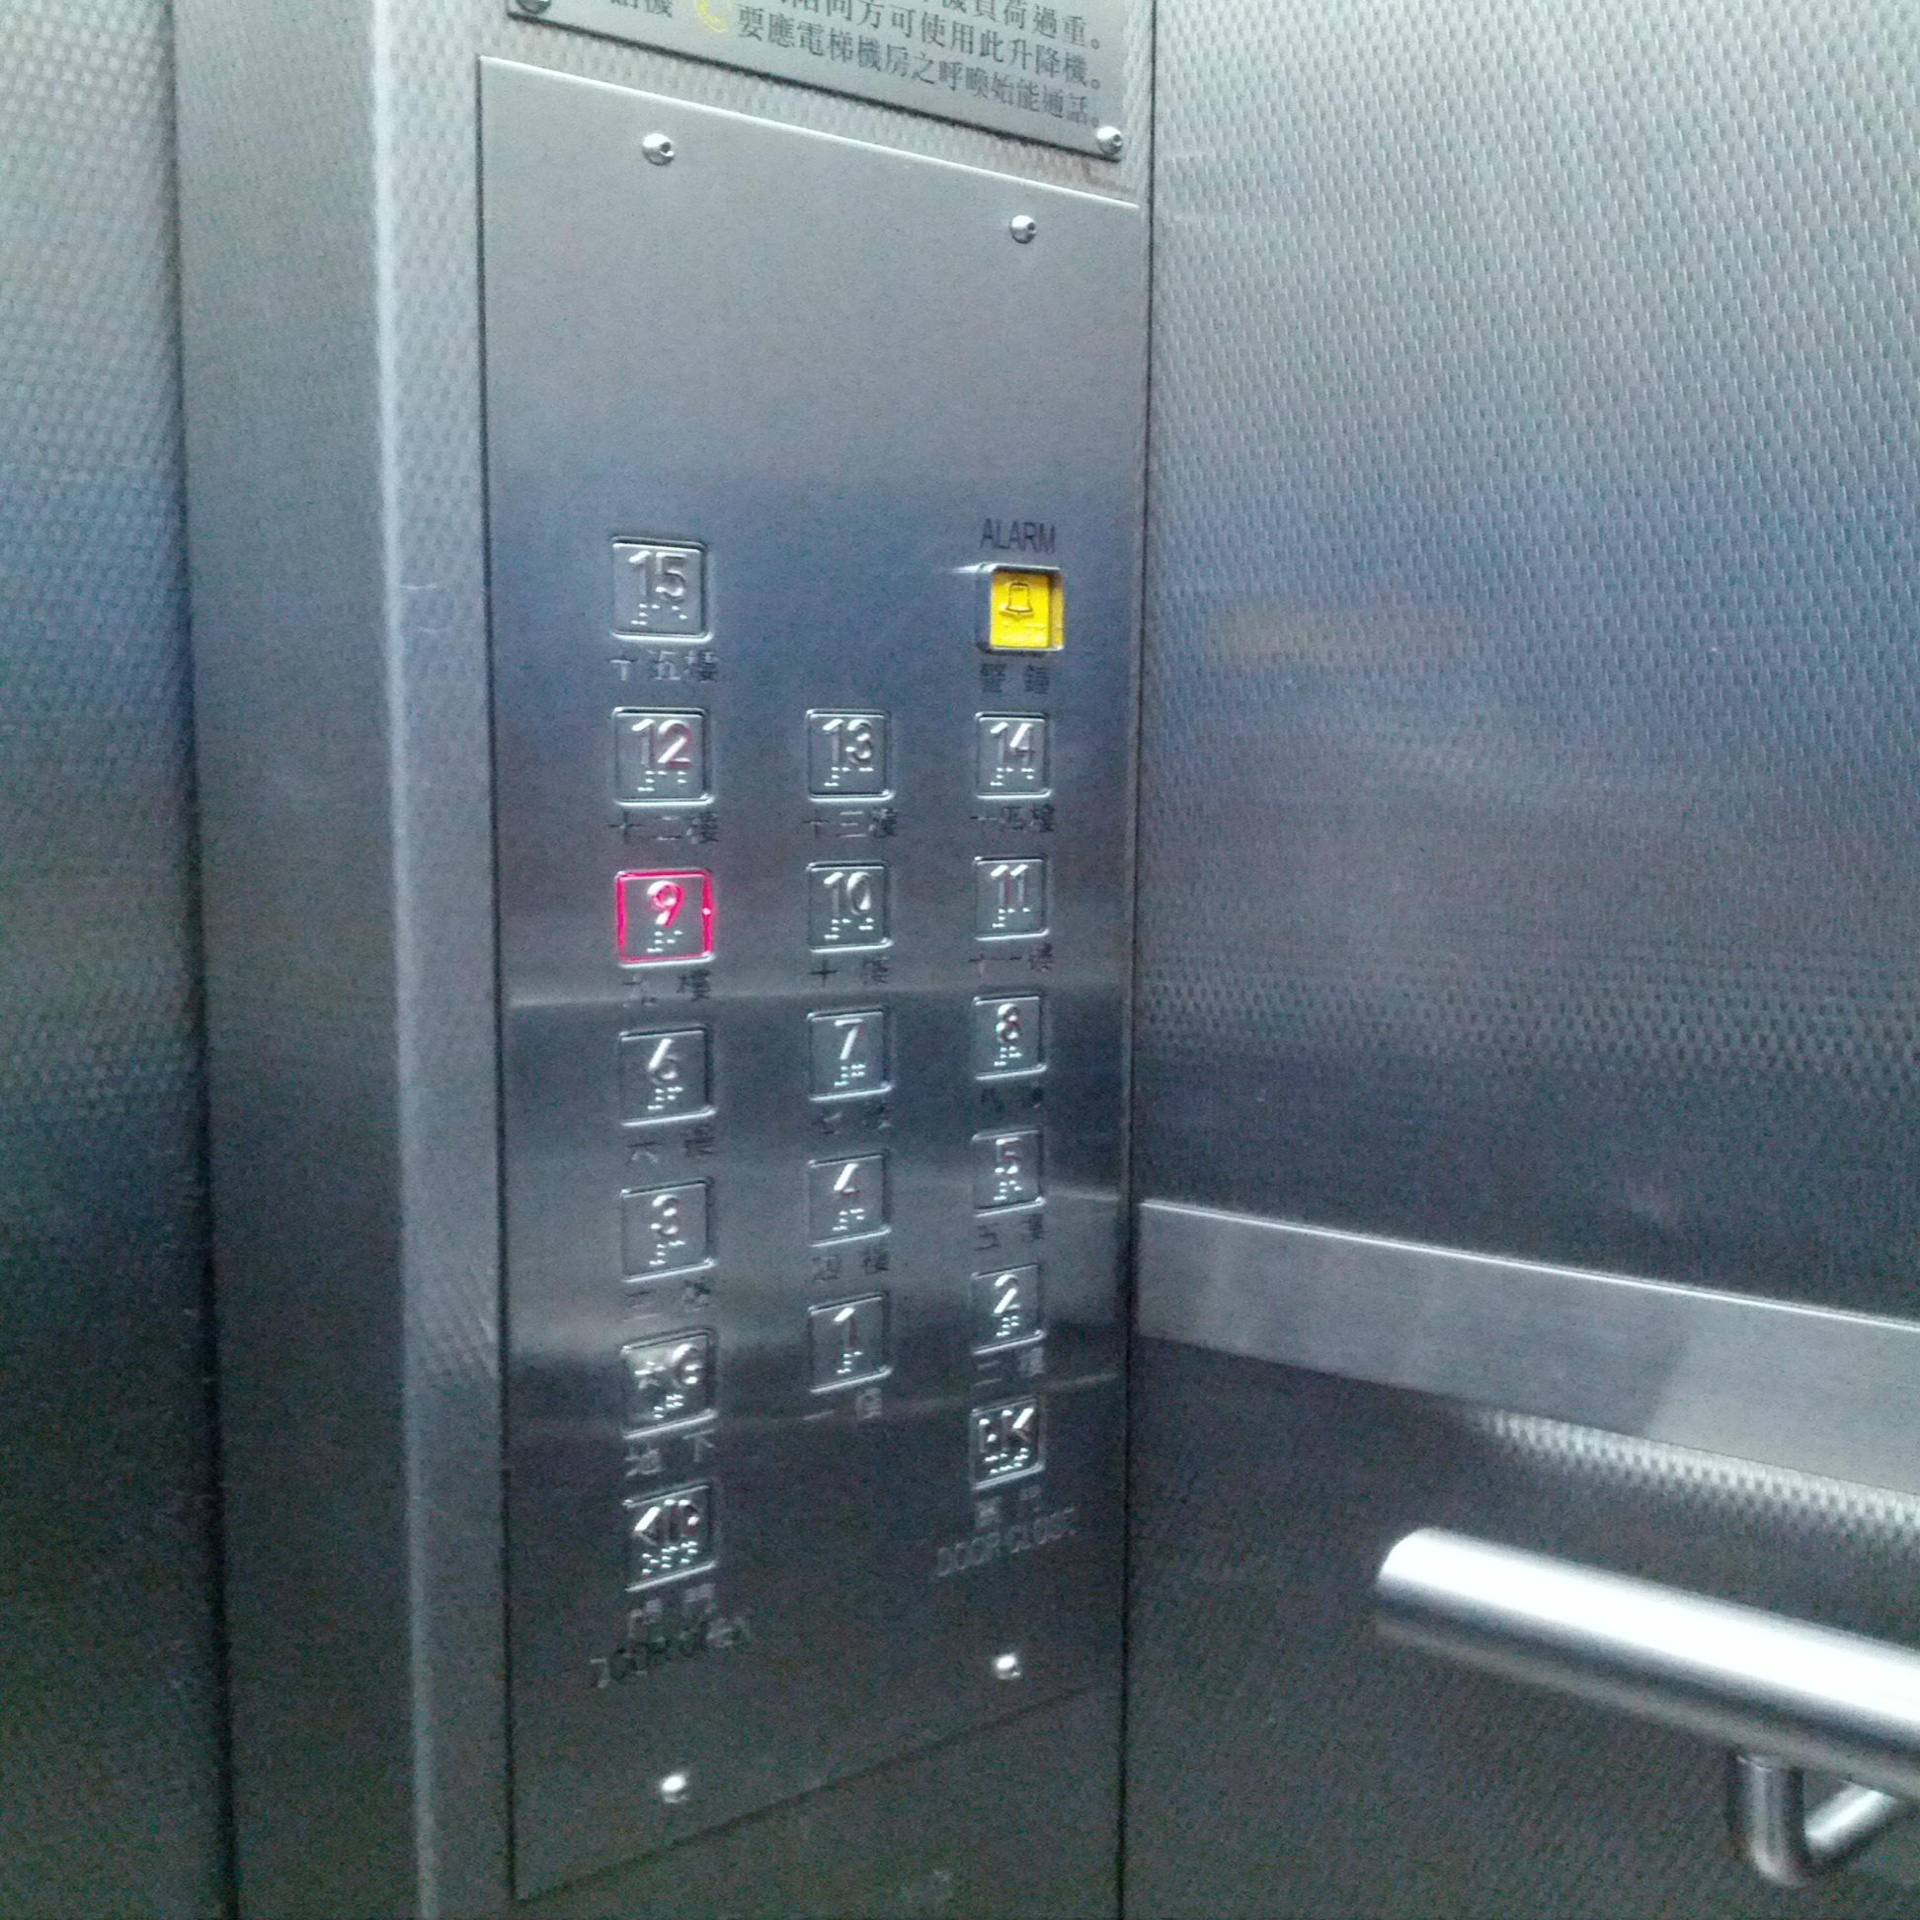1: (804, 1291, 895, 1401)
10: (802, 860, 895, 958)
11: (965, 855, 1053, 946)
12: (612, 703, 714, 809)
13: (802, 707, 893, 805)
14: (969, 710, 1055, 800)
15: (607, 536, 710, 642)
2: (965, 1261, 1046, 1361)
3: (612, 1176, 717, 1285)
4: (802, 1150, 890, 1252)
5: (964, 1124, 1048, 1218)
6: (612, 1022, 714, 1132)
7: (802, 1007, 891, 1108)
8: (965, 988, 1050, 1081)
9: (612, 865, 716, 969)
alarm: (978, 559, 1071, 658)
close: (964, 1396, 1048, 1495)
open: (614, 1479, 716, 1595)
sG: (612, 1326, 717, 1447)
